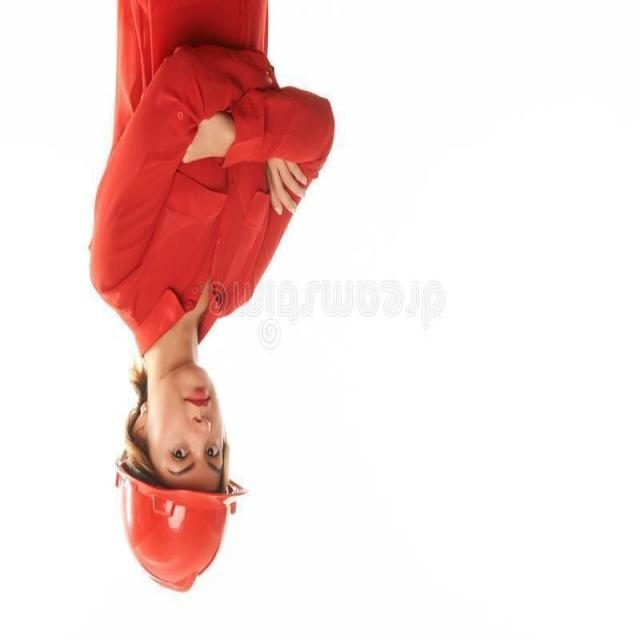helmet: (108, 450, 250, 606)
